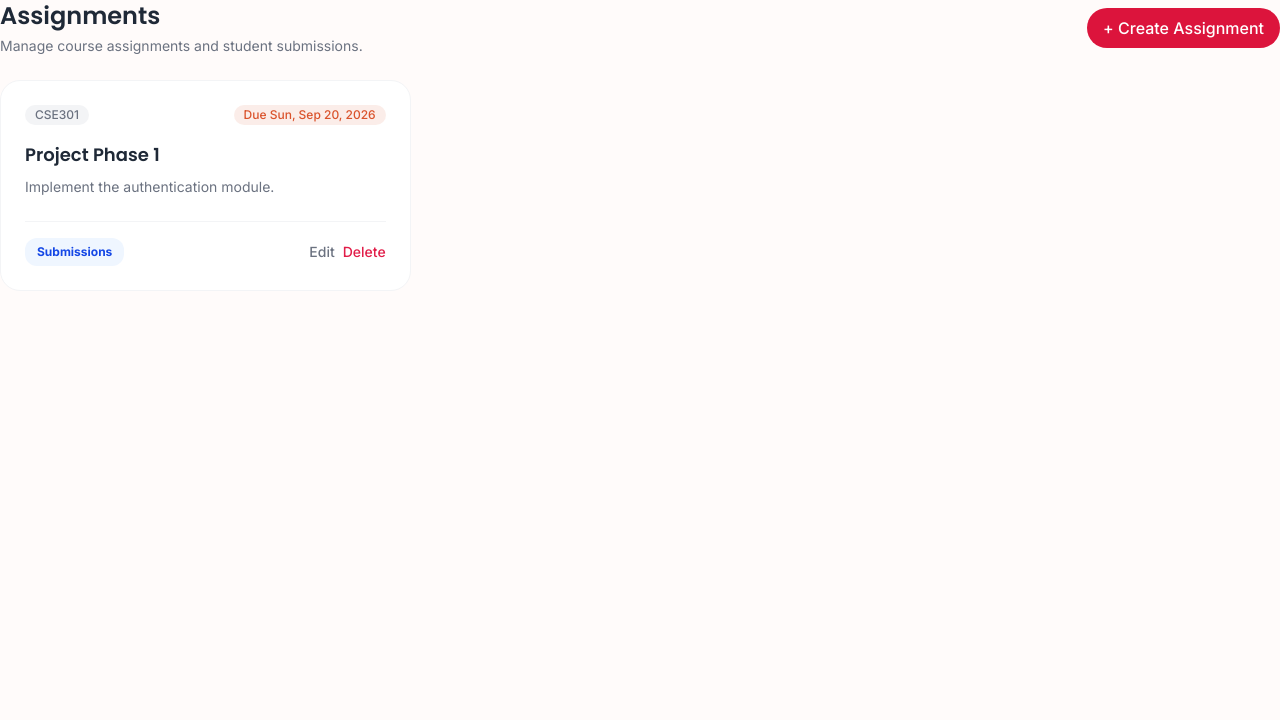
Test: AssignmentsPanel Component › opens the Edit Assignment modal when Edit is clicked
The width and height of the screenshot is (1280, 720).
What coordinates should you click on to do the following:
click the button "Edit"
I would click on:
 (322, 252)
Its box is [309,242,335,262].
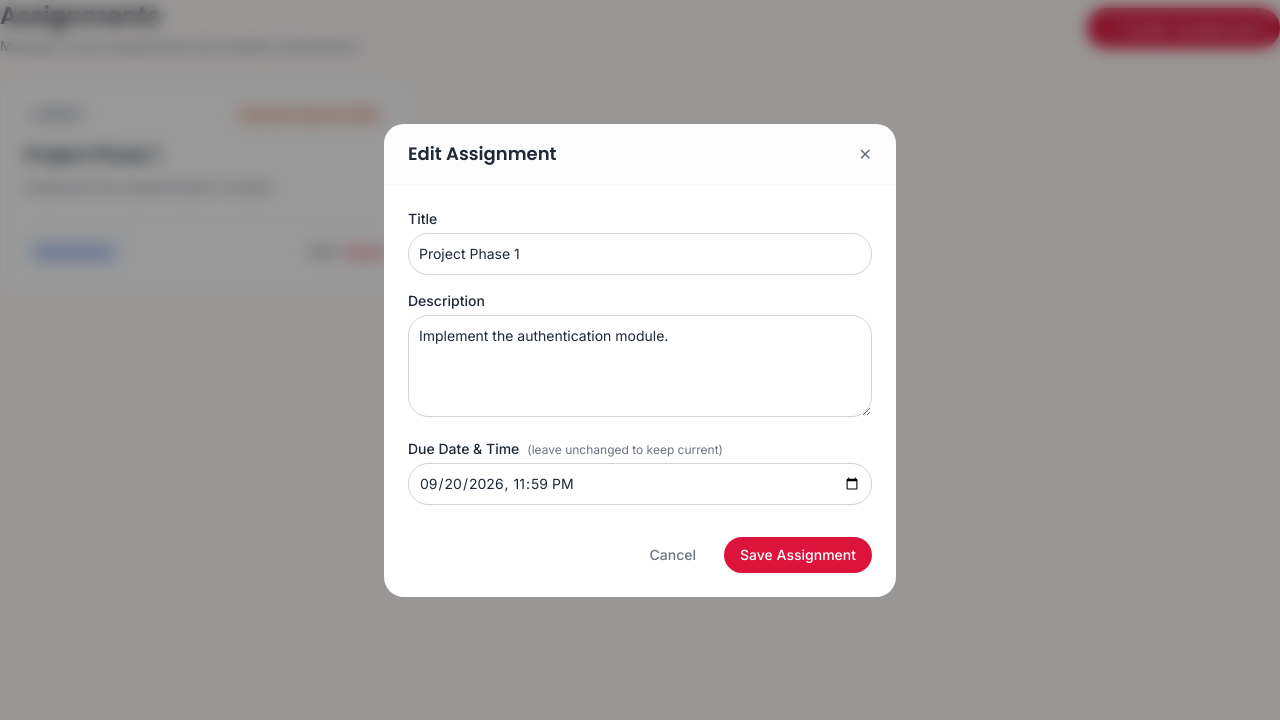
Now the heading "Edit Assignment" is shown, box [408,140,556,168]
